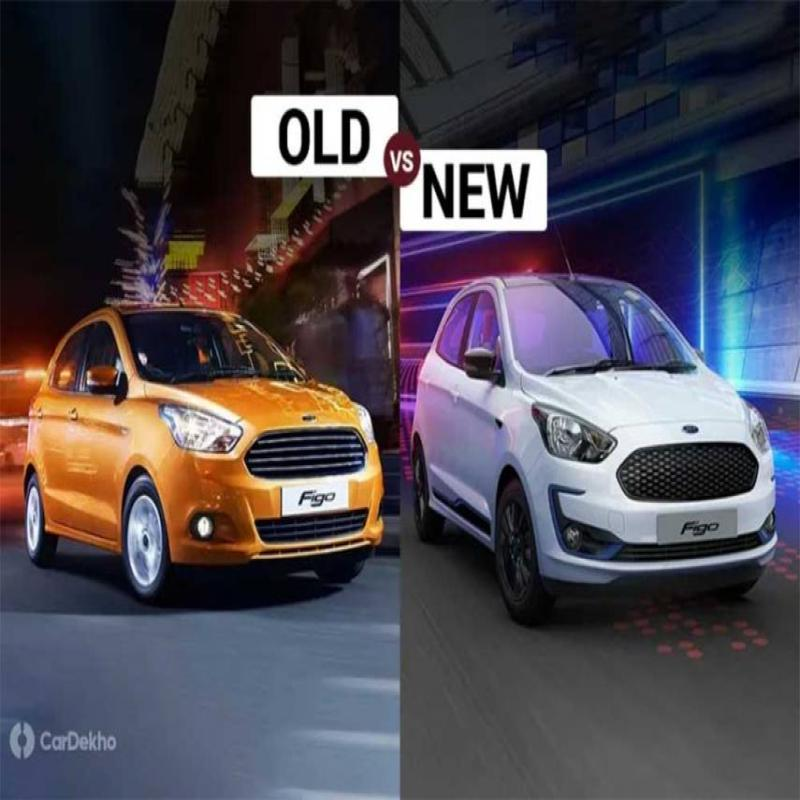car: (10, 295, 392, 634), (424, 271, 776, 631)
